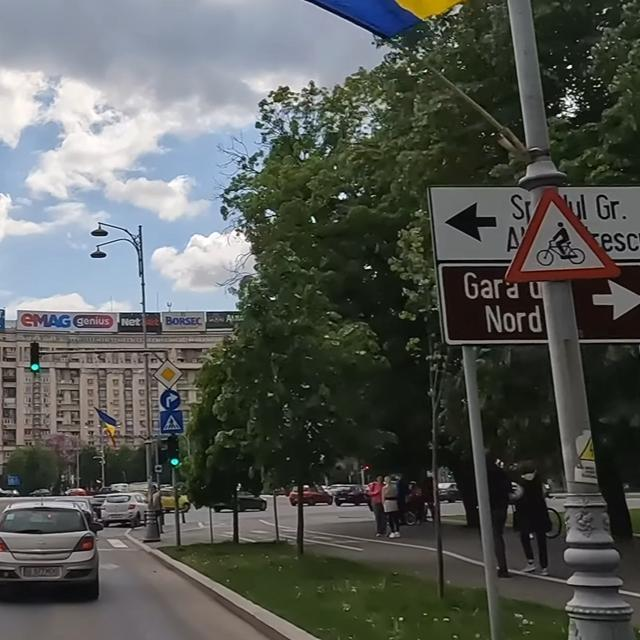info_crosswalk: (159, 409, 184, 434)
